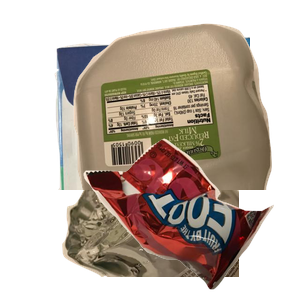glass: (60, 120, 300, 300)
paper: (52, 34, 292, 214)
plastic: (71, 21, 300, 201)
trash: (81, 136, 300, 300)
